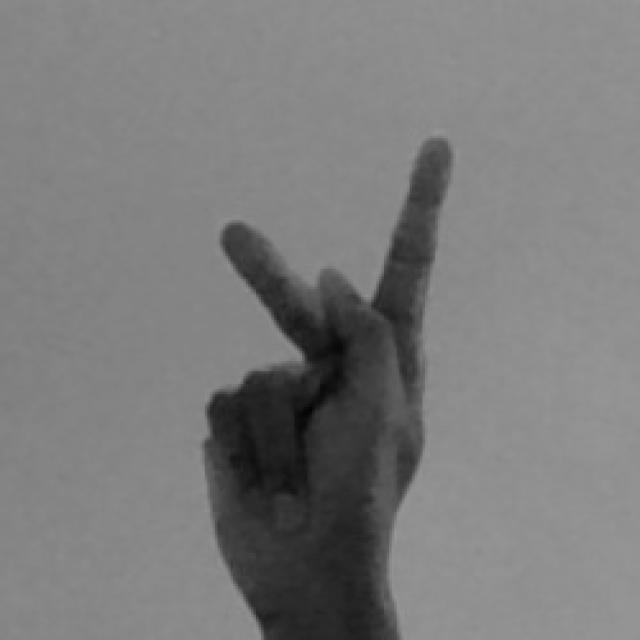K: (194, 133, 456, 640)
